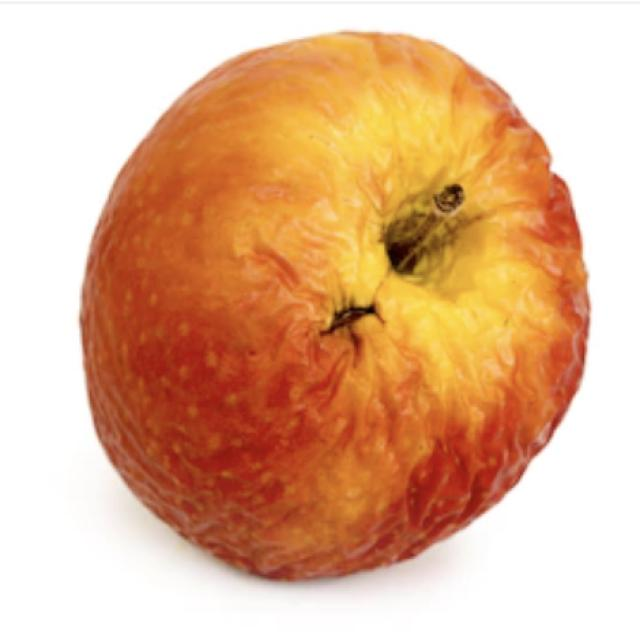rotten_apple: (80, 23, 582, 586)
